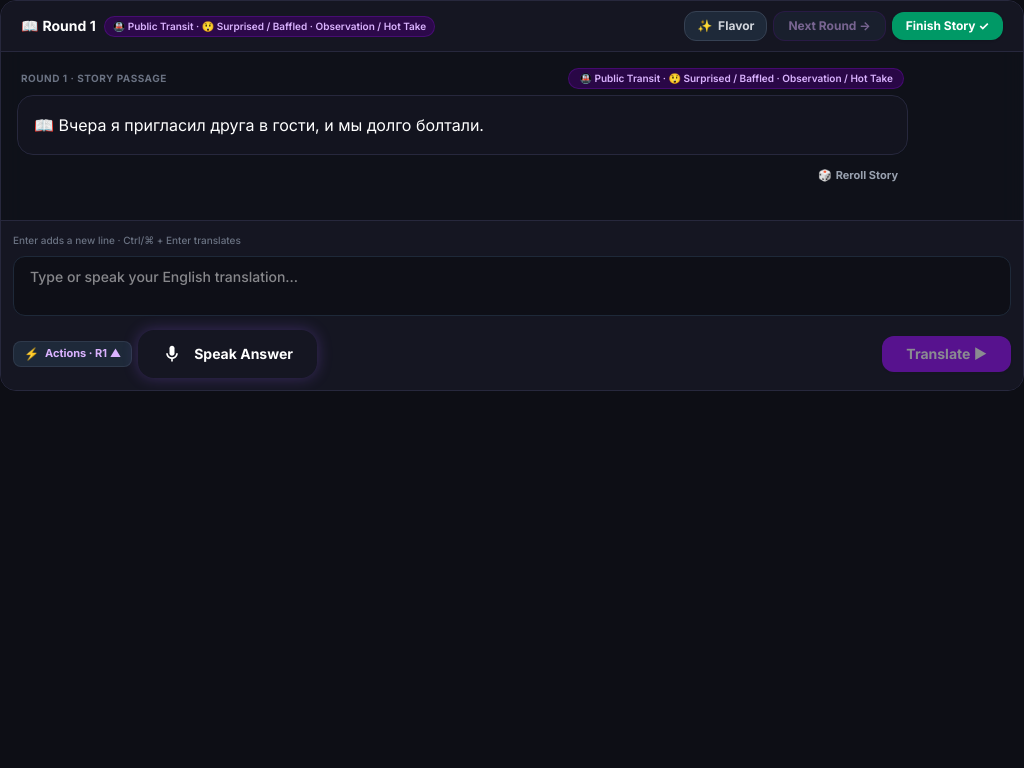
Test: TranslationStorySession Component › shows an affirmation instead of a rewrite for already-natural translations
Expected: the text "📖 Вчера я пригласил друга в гости, и мы долго болтали." is shown, top-left (34, 115), bottom-right (484, 135)
Type "I ran into him yesterday." into the text box with placeholder "Type or speak your English translation..." at (512, 286), box top-left (13, 256), bottom-right (1011, 316)
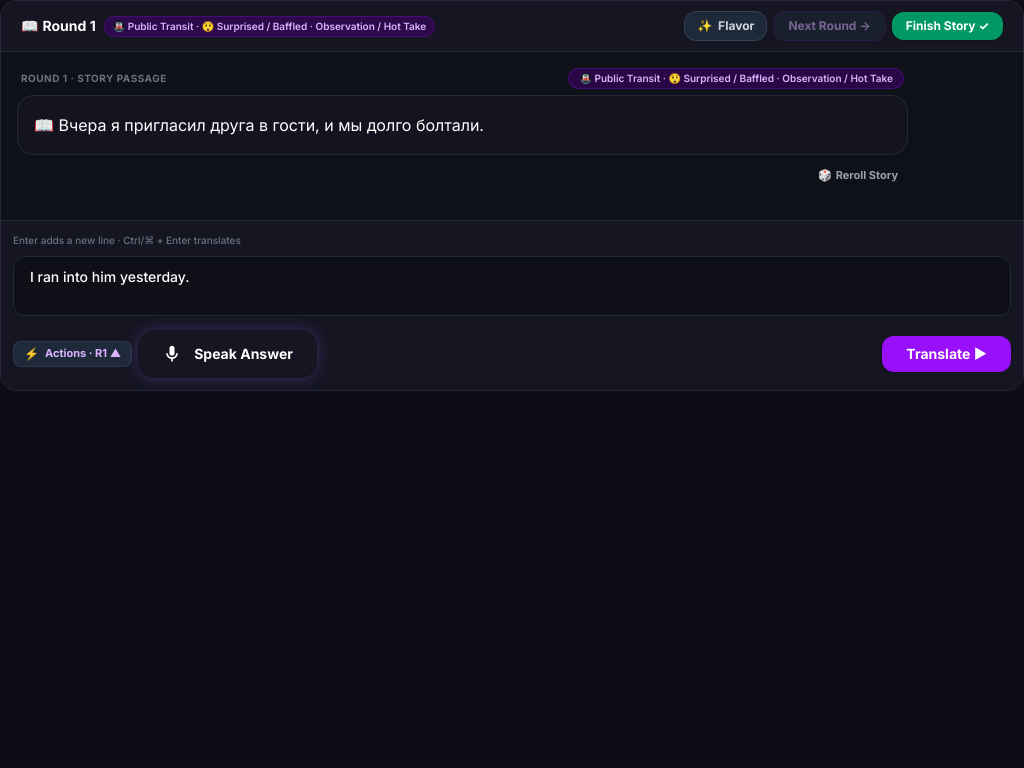
Click the button "Translate ▶" at (947, 354), box top-left (882, 336), bottom-right (1011, 372)
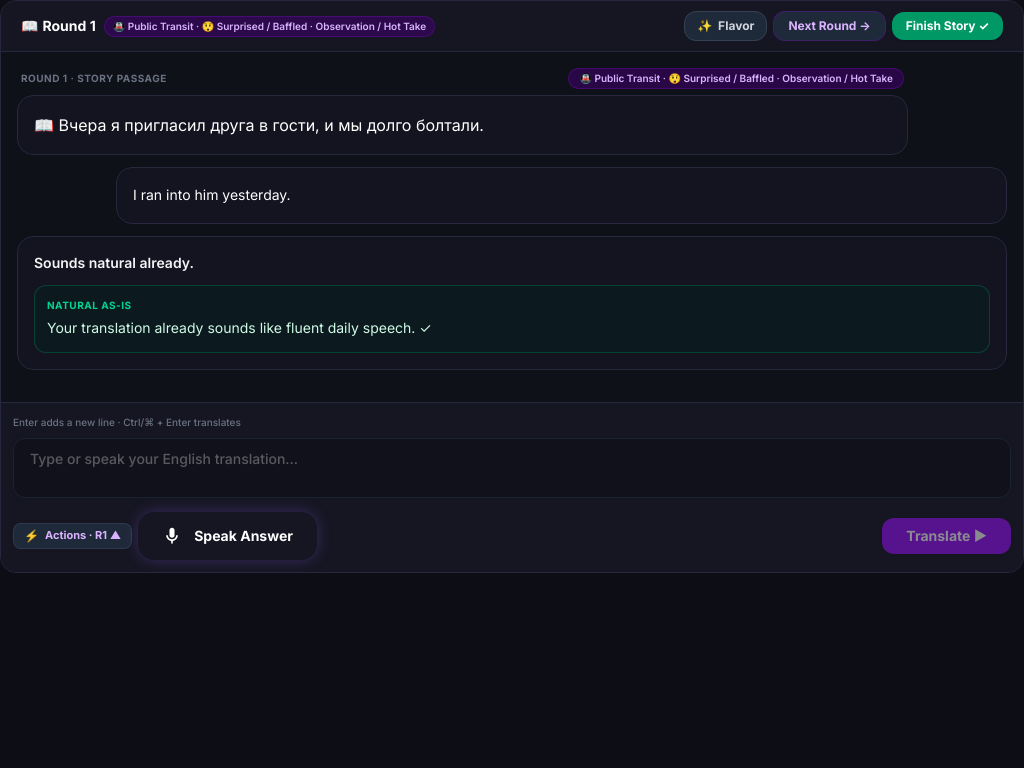
Expected: the element with test id "story-feedback" is shown, top-left (17, 236), bottom-right (1007, 370)
Expected: the text "Natural as-is" is shown, top-left (47, 299), bottom-right (132, 311)
Expected: the text "Sounds natural already." is shown, top-left (34, 254), bottom-right (194, 271)
